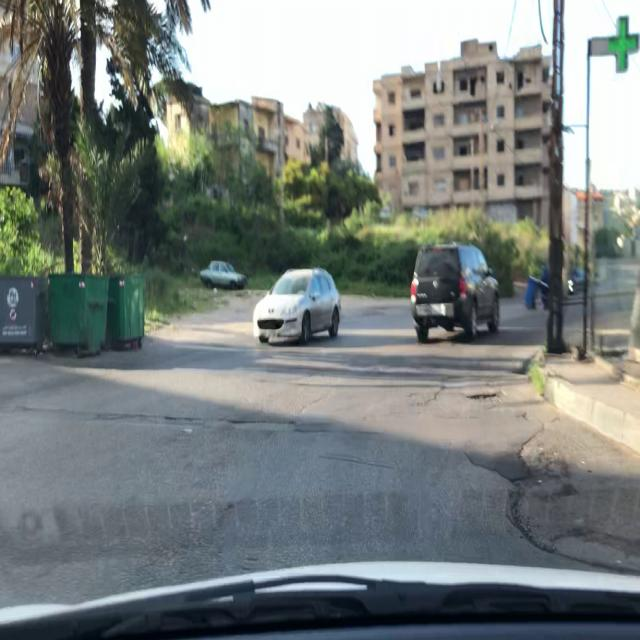Pothole: (545, 523, 640, 576), (466, 390, 500, 411)
